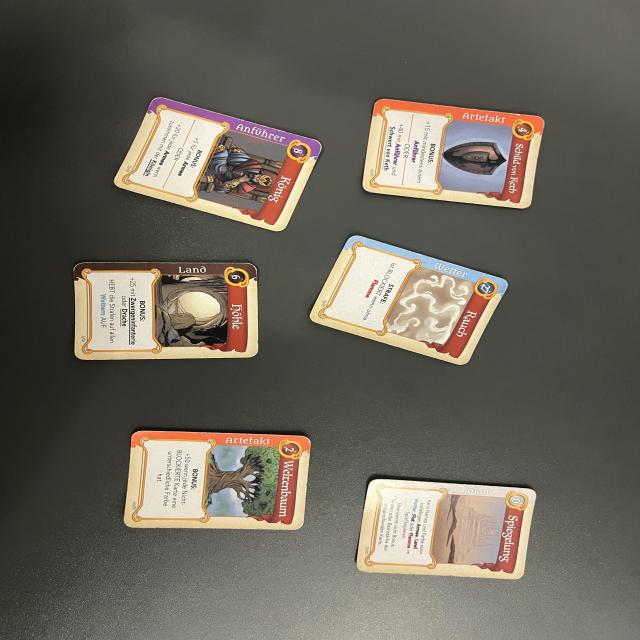King: (110, 93, 328, 233)
Mirage: (363, 472, 532, 586)
Shield Of Keth: (355, 93, 550, 210)
Smoke: (304, 233, 509, 369)
Underground Caverns: (70, 260, 265, 359)
World Tree: (127, 429, 309, 534)
